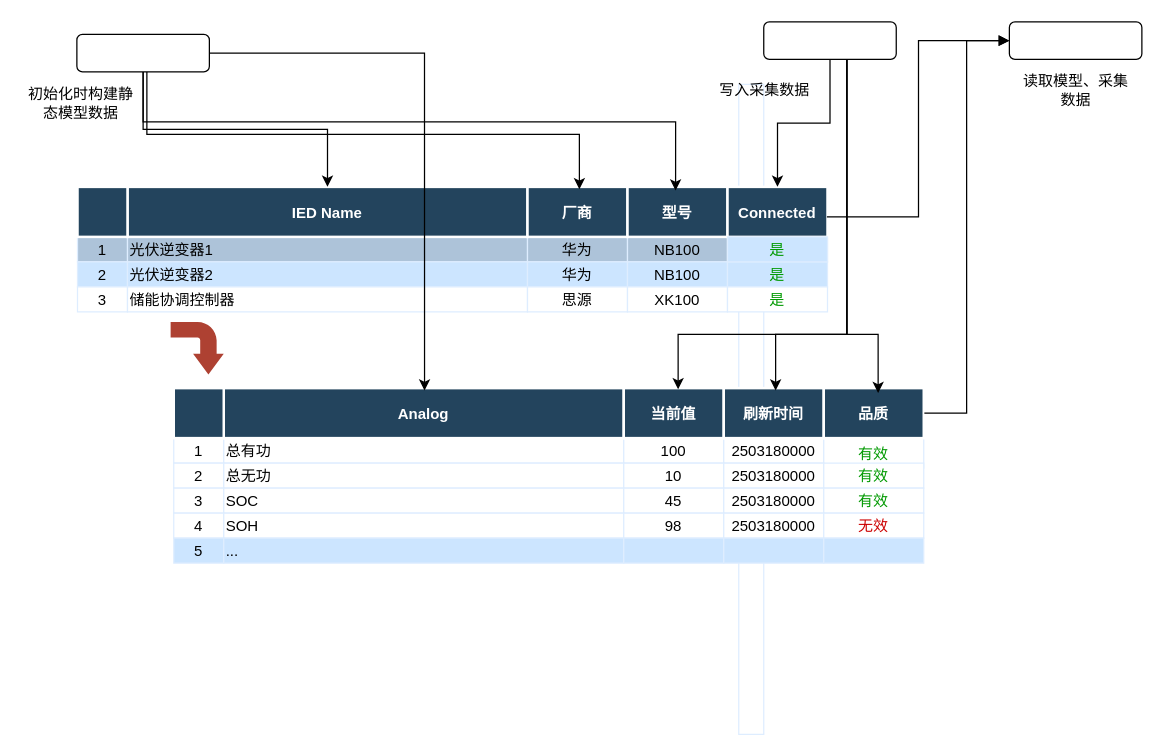
This 1164x756 diagram has some shape labels left out. The box of each missing label's shape, as (x1, y1, x2, y2) in pixels:
主线程: (76, 33, 209, 72)
其他业务线程: (1008, 21, 1142, 59)
采集线程: (762, 21, 896, 59)
